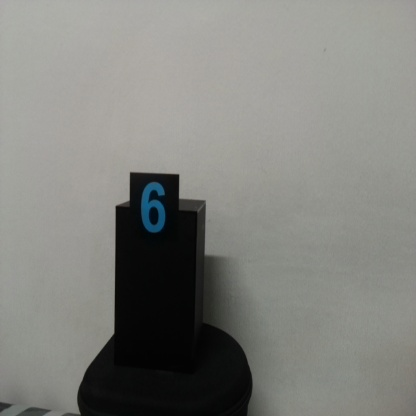id_6: (129, 173, 180, 255)
